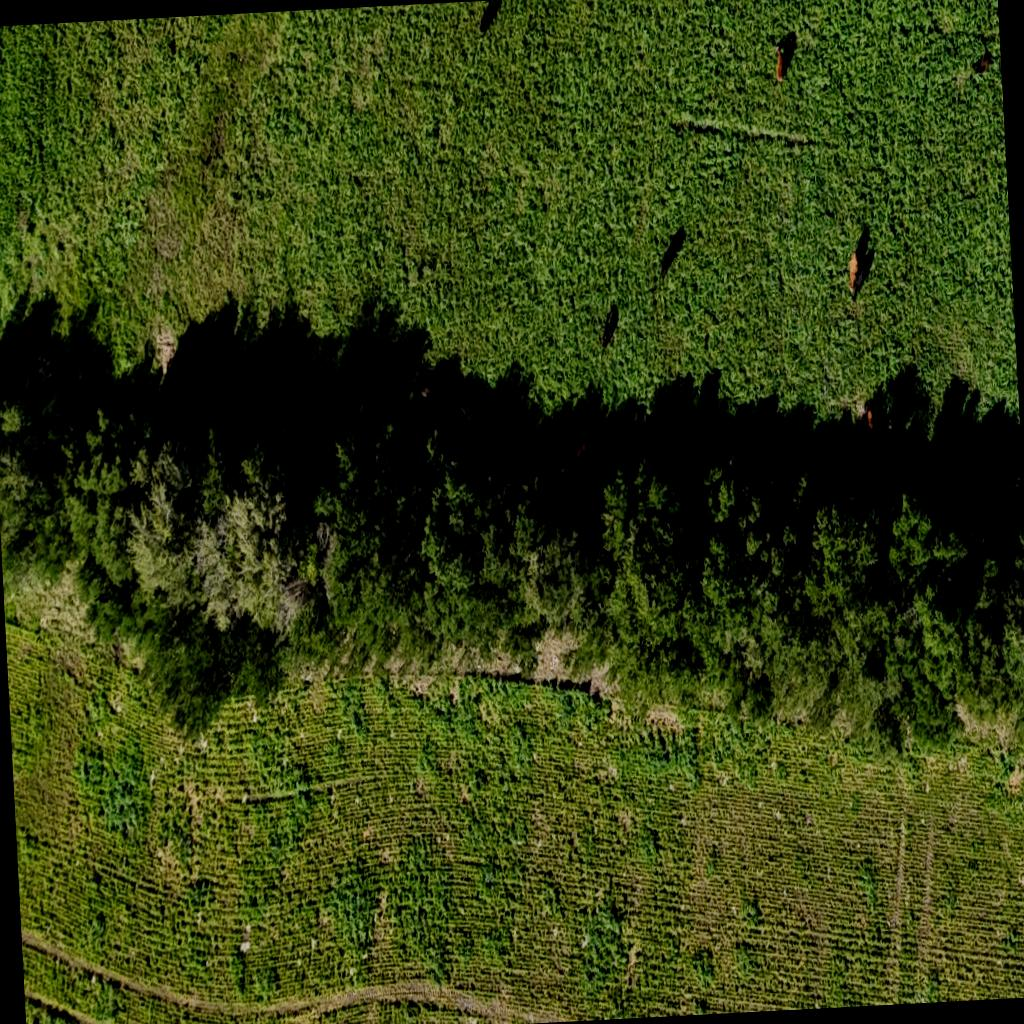cow: (844, 226, 874, 304), (656, 226, 688, 282), (773, 36, 797, 84), (599, 302, 621, 350), (478, 1, 506, 35), (857, 406, 876, 440), (974, 48, 994, 75)
